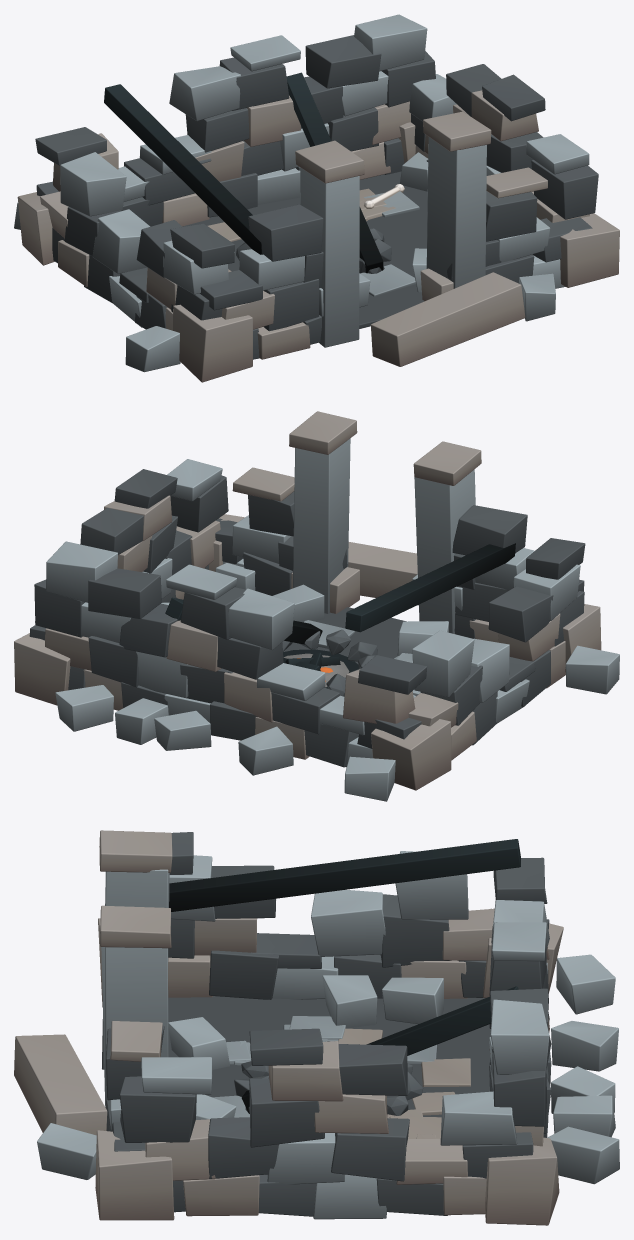
File: giant_hall_ruin.glb
The picture shows the model from 3 angles, top to bottom: view 1: azimuth 30°, elevation 25°; view 2: azimuth 150°, elevation 25°; view 3: azimuth 270°, elevation 25°; orthographic projection. The views are drawn at different scales.
Parts seen in each view (by area): view 1: giant_hall_ruin; view 2: giant_hall_ruin; view 3: giant_hall_ruin.
Boxes of the visible parts, left/top/right/bottom form: giant_hall_ruin: left=14, top=14, right=619, bottom=382; giant_hall_ruin: left=14, top=411, right=619, bottom=801; giant_hall_ruin: left=14, top=830, right=619, bottom=1225.
Size of the model in its own units: 20.25 by 7.76 by 18.95.
2 materials, 2 textured.
